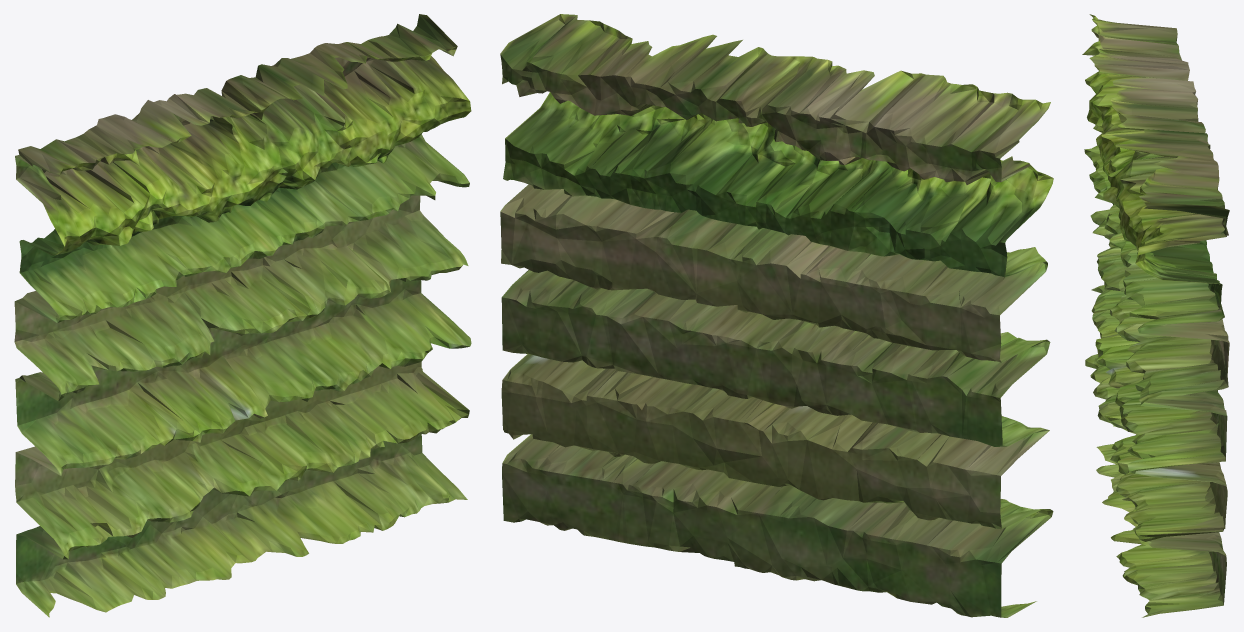
File: map_40_40.obj
3 renders of one model, left to right at view 1: azimuth 30°, elevation 25°; view 2: azimuth 150°, elevation 25°; view 3: azimuth 270°, elevation 25°, orthographic. The views are drawn at different scales.
Visible parts, largest first — view 1: grp1; view 2: grp1; view 3: grp1.
Part boxes in pixels (x1,y1,x2,y2): grp1: (14, 14, 471, 617); grp1: (500, 14, 1053, 617); grp1: (1082, 14, 1229, 617).
Bounding box in the file's own units: 10 × 10 × 3.25.
1 material, 1 textured.
